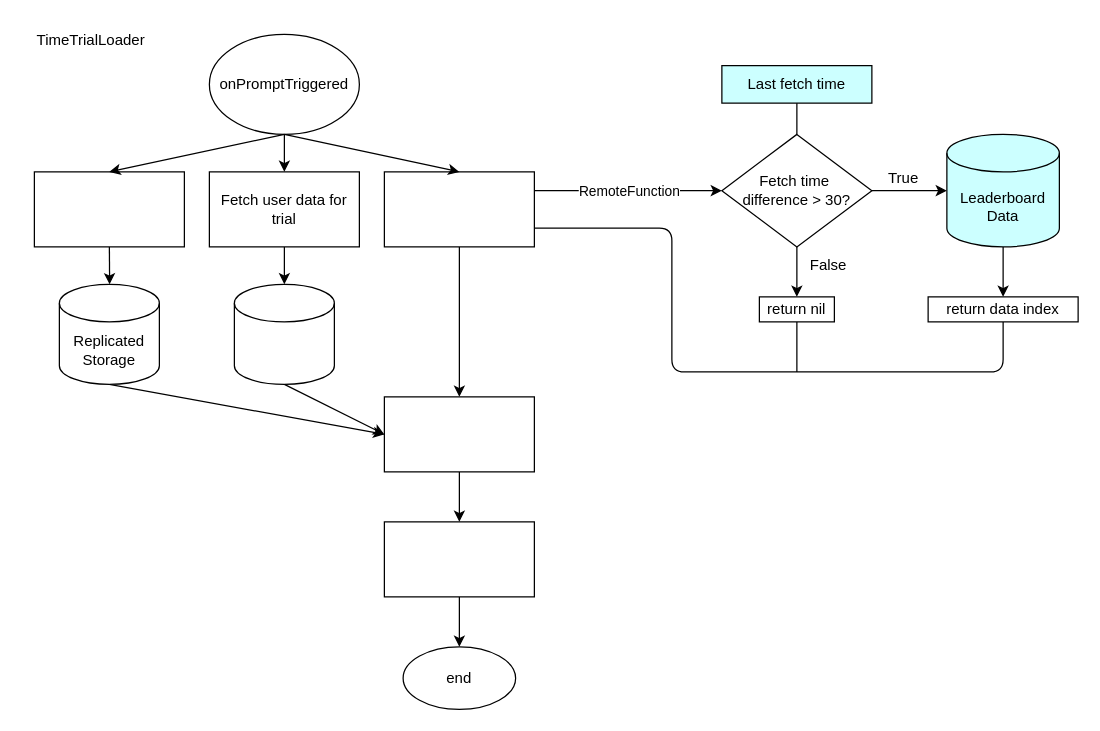
Image size: 1100x731. Some labels were removed from this diagram. Here are the shapes that lost their labels. From the top down, the centre of each, then its label:
At (108,209): "Fetch time trial data".
At (458,209): "Fetch time trial leaderboard data".
At (283,333): "Client sledstats".
At (458,434): "Format".
At (458,559): "Display UI".
